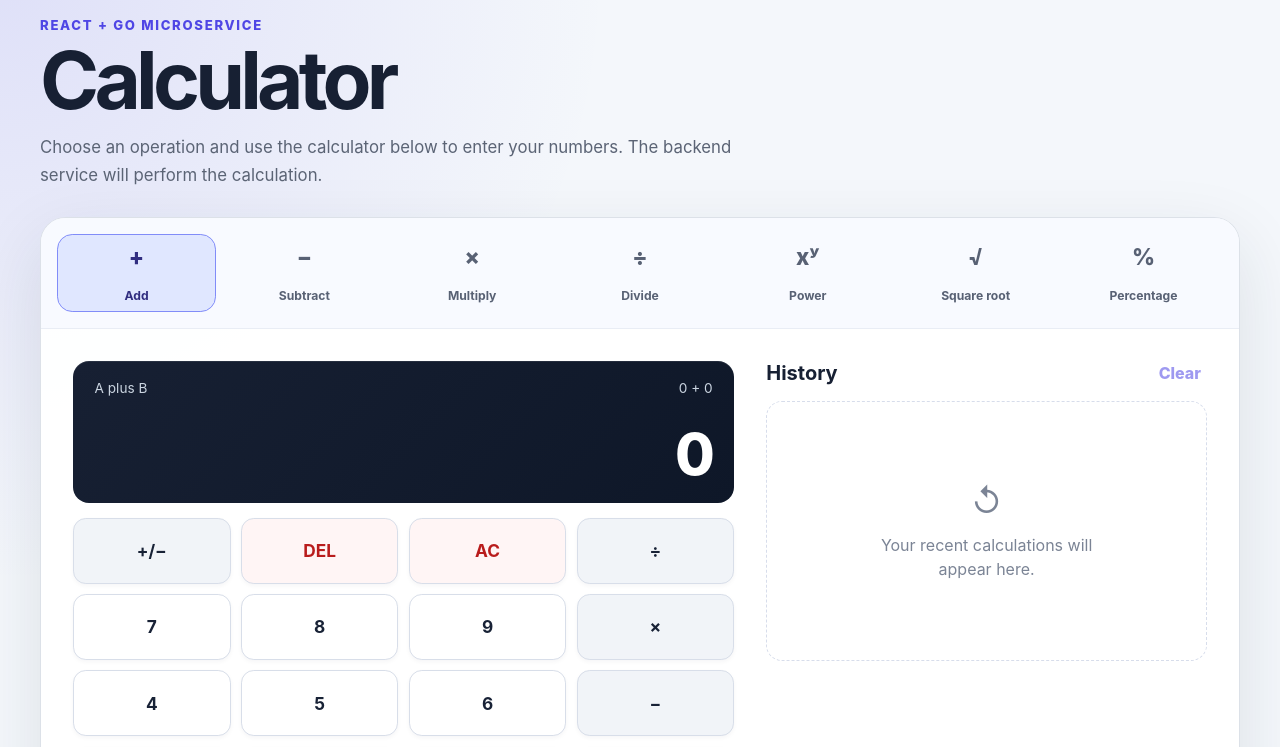
Test: Calculator › uses only operand A for square root
Click the button "√ Square root".
click(976, 273)  # box [896,234,1055,312]
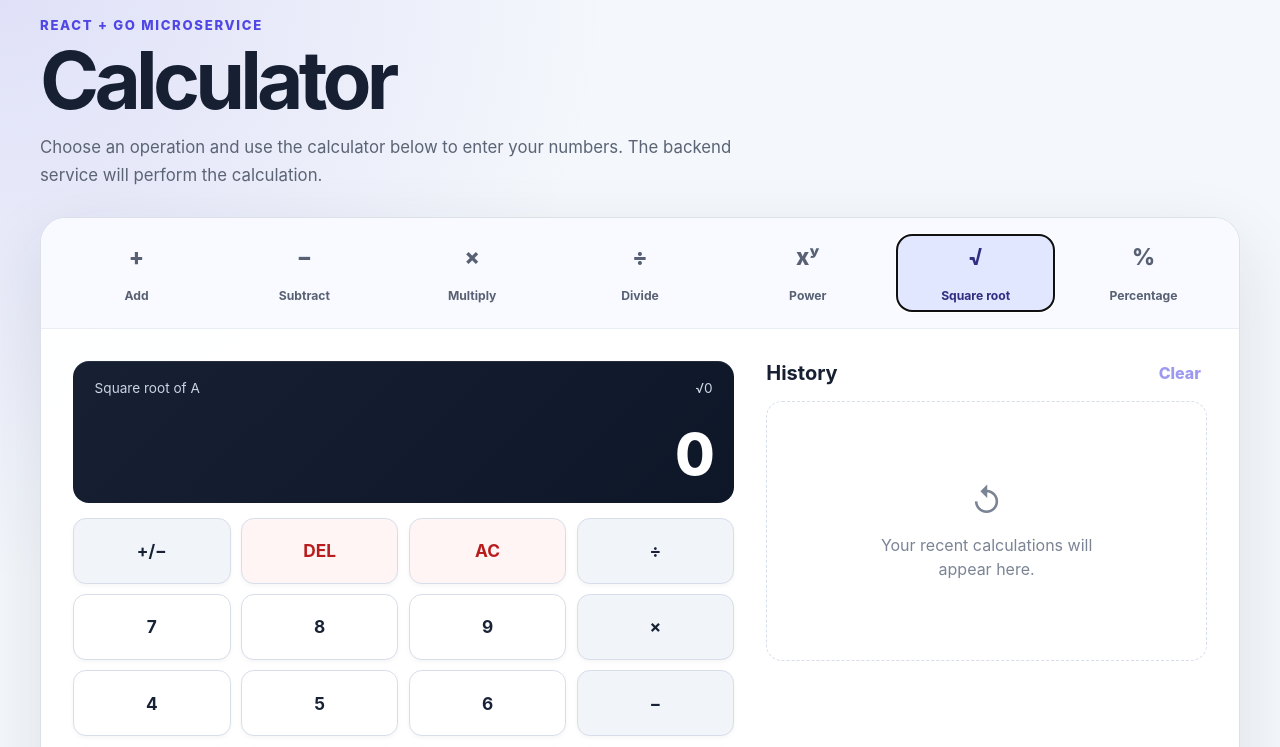
Click the button "8".
click(320, 627)  # box [241,594,398,660]
(page scrolled)
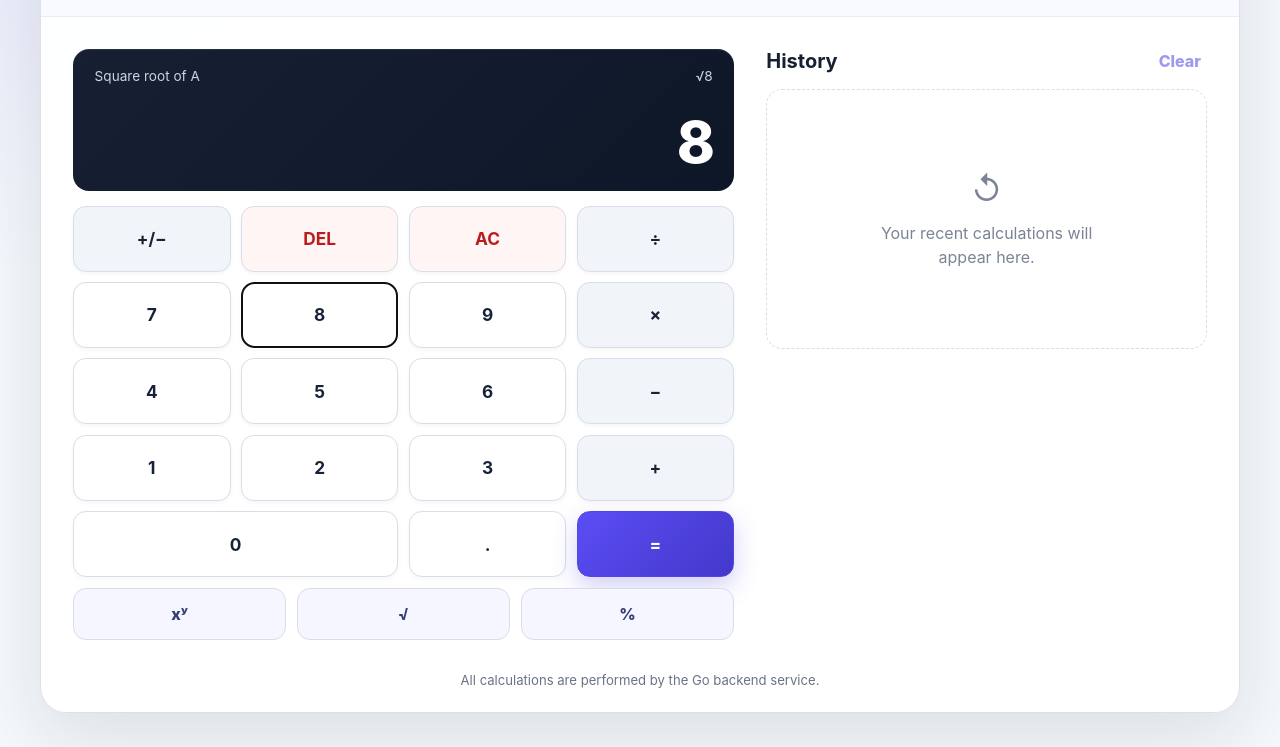
Click the button "1".
click(152, 468)  # box [73,435,230,501]
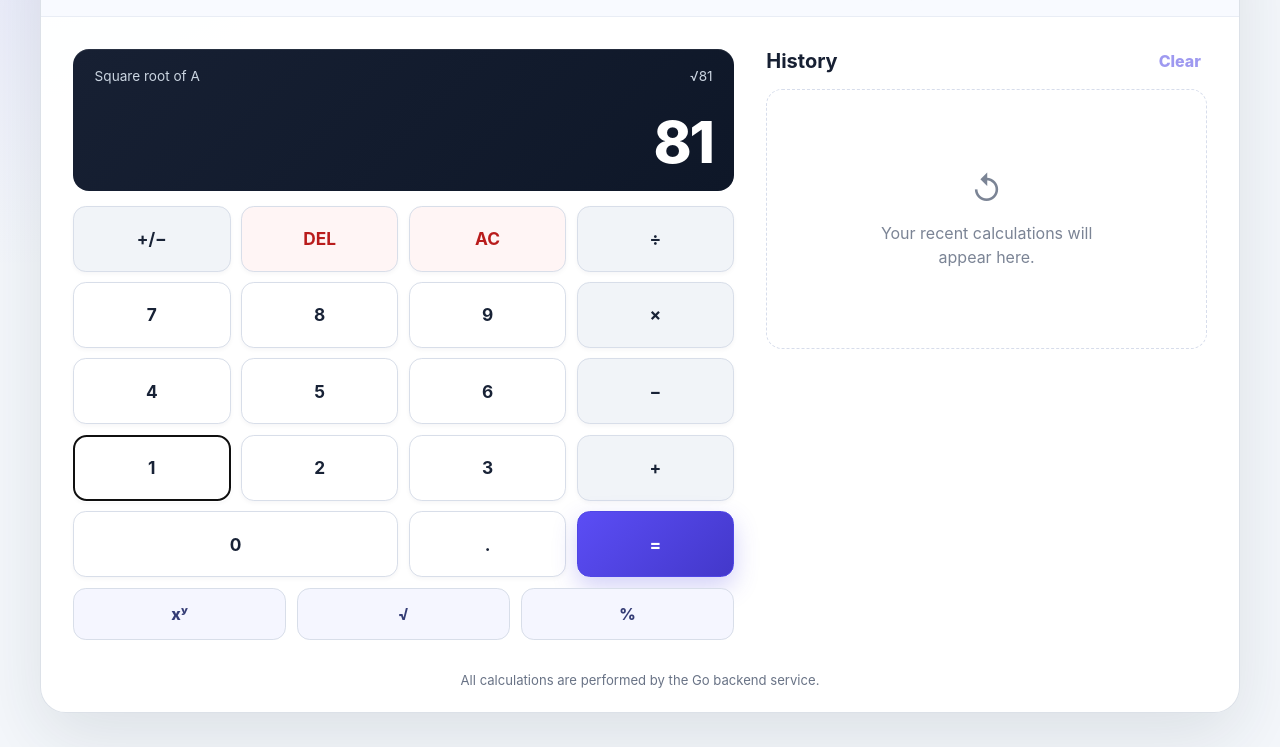
Click the button "=".
click(655, 544)  # box [577,511,734,577]
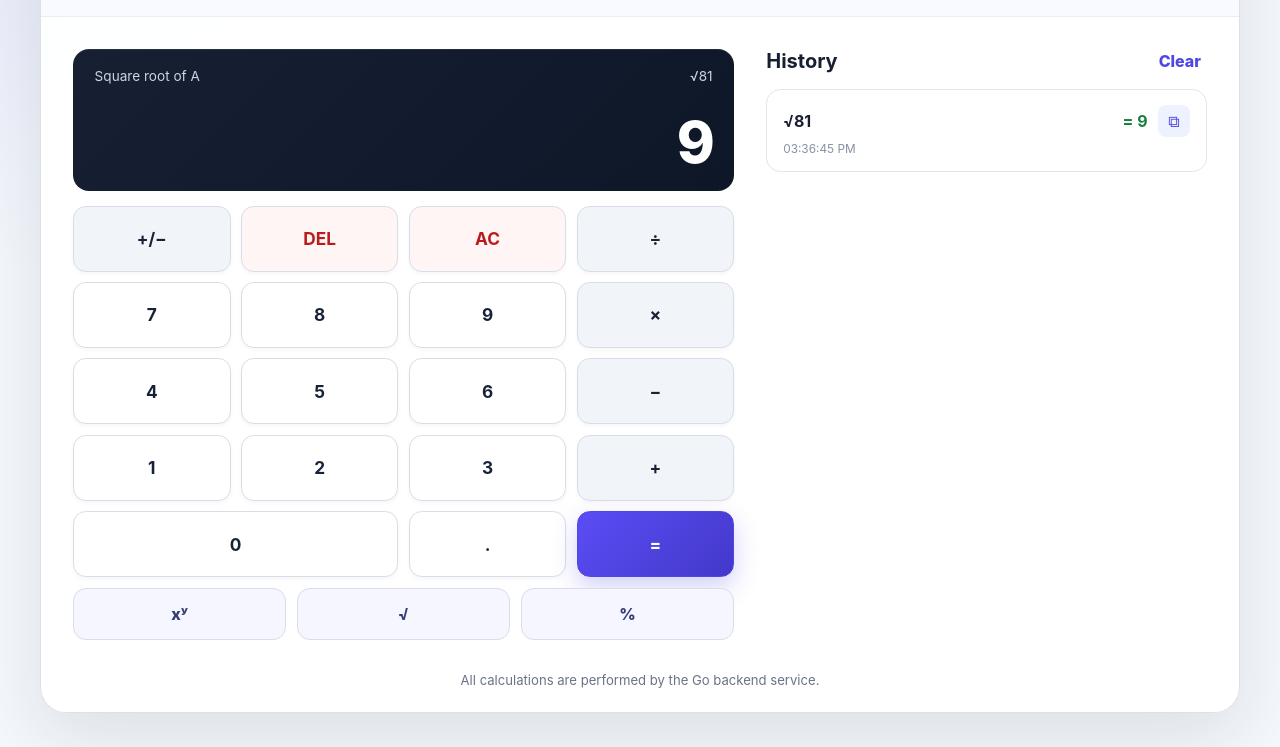
Check: the text named "Calculator display" reads "9", box [677,107,713,177]
